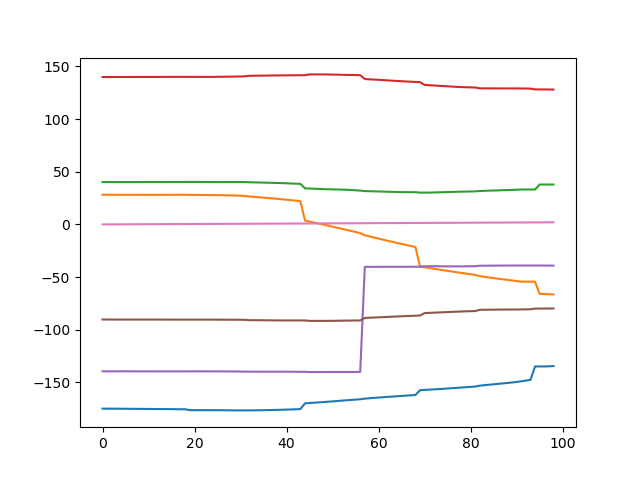Good_Bicep_Curl: (1, 1, 640, 480)
